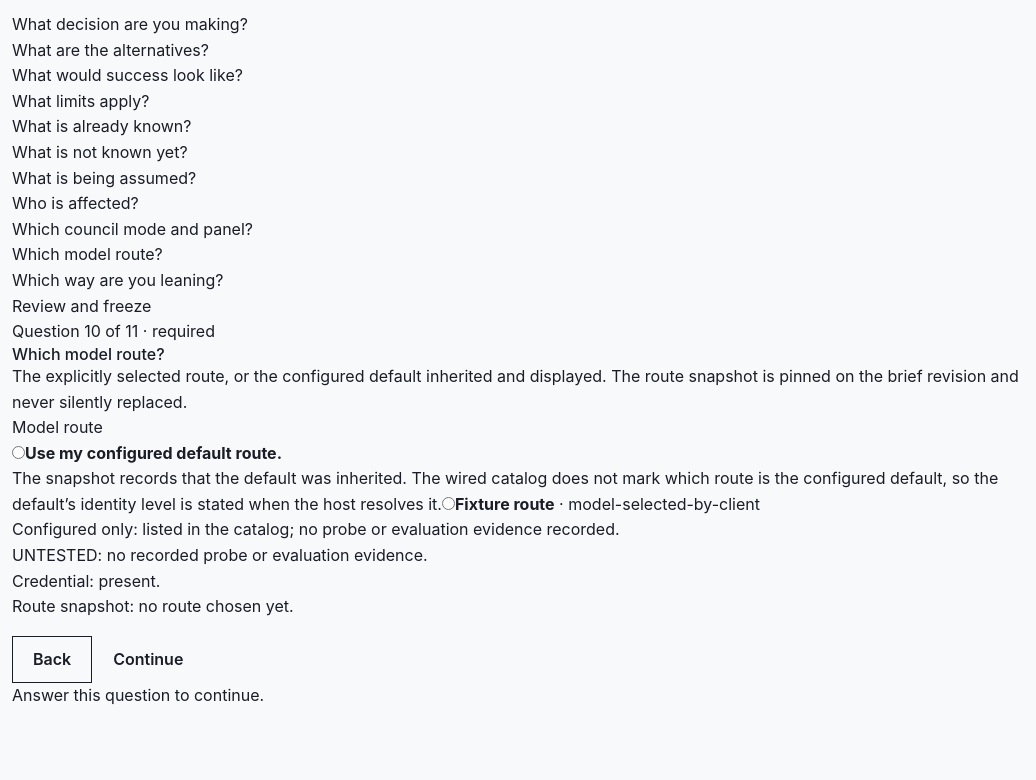
Test: intake journey › displays the route snapshot with UNTESTED routes labeled
Expected: the element with test id "intake-step-route" is shown, [12, 319, 1035, 709]
Expected: the text with test id "route-readiness-route-fixture-untested" shows "UNTESTED", [12, 545, 428, 565]
Click the radio button labelled "Fixture route". click: point(448, 503)
box: [442, 497, 455, 510]
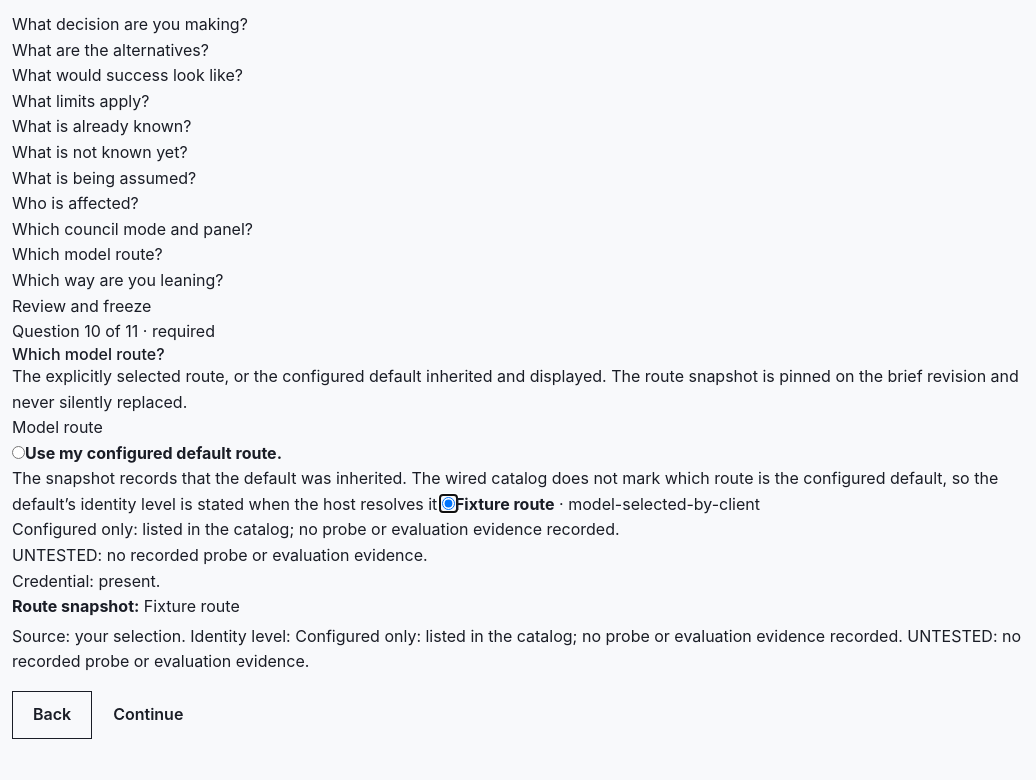
Result: the element with test id "route-snapshot" shows "your selection" at [12, 626, 295, 646]
Result: the element with test id "route-snapshot" shows "Configured only" at [295, 626, 903, 646]
Result: the element with test id "route-snapshot" shows "UNTESTED" at [12, 626, 1021, 671]
